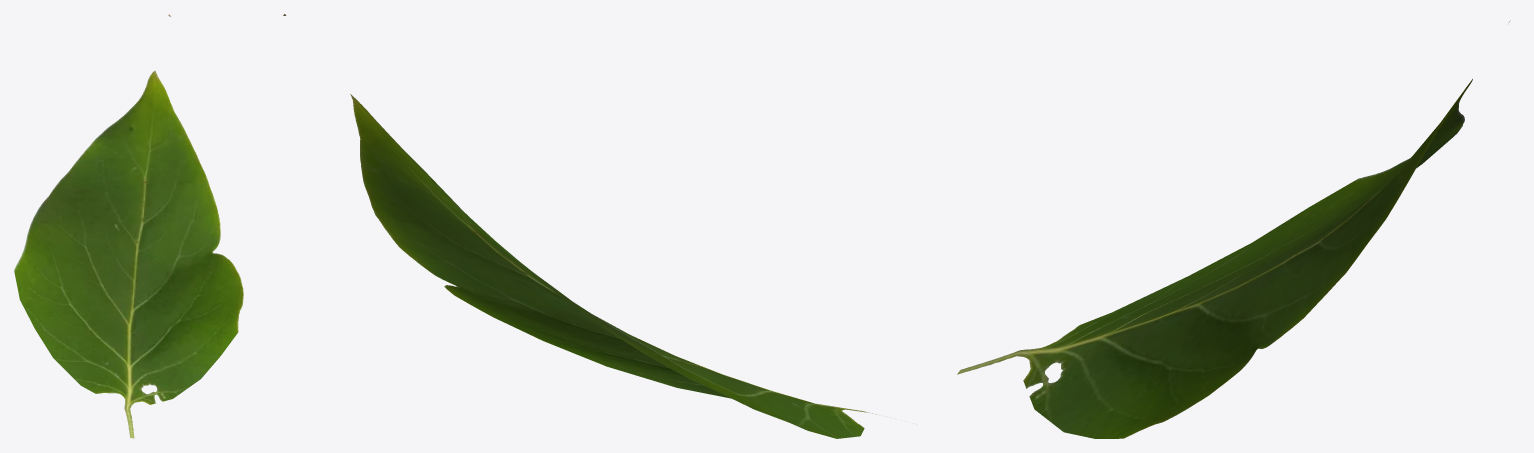
File: leaf.glb
The picture shows the model from 3 angles, left to right: view 1: azimuth 30°, elevation 25°; view 2: azimuth 150°, elevation 25°; view 3: azimuth 270°, elevation 25°; orthographic projection. The views are drawn at different scales.
Parts seen in each view (by area): view 1: Object_4; view 2: Object_4; view 3: Object_4.
Boxes of the visible parts, x1=… form: Object_4: x1=14, y1=14, x2=243, y2=438; Object_4: x1=283, y1=14, x2=886, y2=438; Object_4: x1=957, y1=20, x2=1510, y2=438.
Size of the model in its own units: 0.605 by 0.733 by 0.7143.
1 material, 1 textured.
